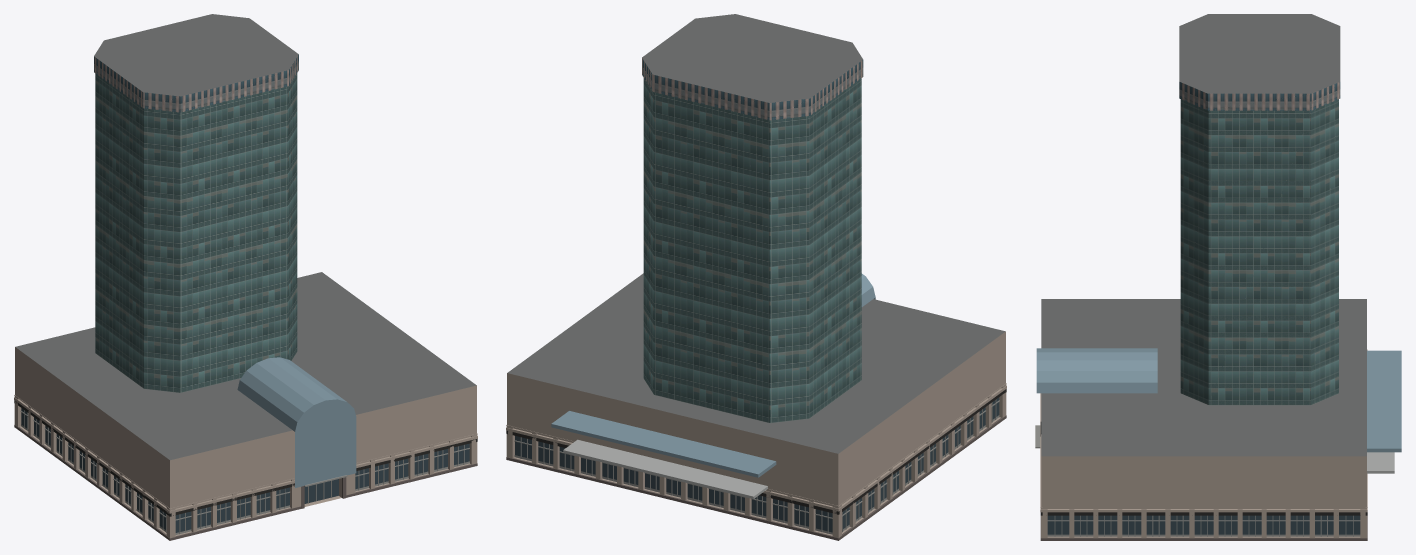
The model's file is westlake_center.glb.
3 renders of one model, left to right at view 1: azimuth 30°, elevation 25°; view 2: azimuth 150°, elevation 25°; view 3: azimuth 270°, elevation 25°, orthographic. The views are drawn at different scales.
Parts seen in each view (by area): view 1: westlake_center; view 2: westlake_center; view 3: westlake_center.
Boxes of the visible parts, x1,y1,x2,y2 form: westlake_center: (14,14,477,540); westlake_center: (506,14,1006,540); westlake_center: (1035,14,1401,540).
Size of the model in its own units: 80.34 by 94 by 78.8.
3 materials, 3 textured.
